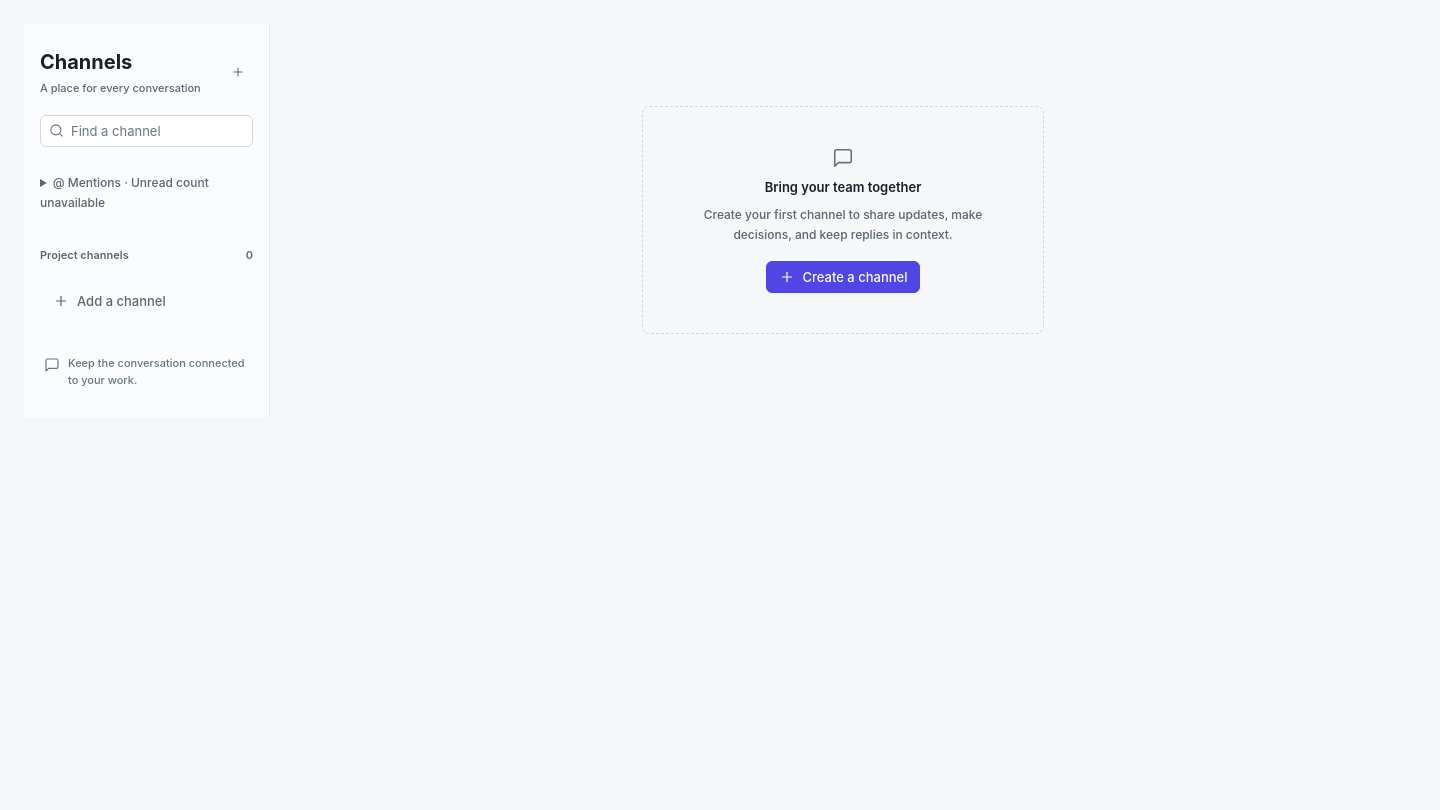
channel collaboration › creates an independent channel and opens its shared conversation
Click the button named "New channel" at (238, 72), box [223,59,253,85]
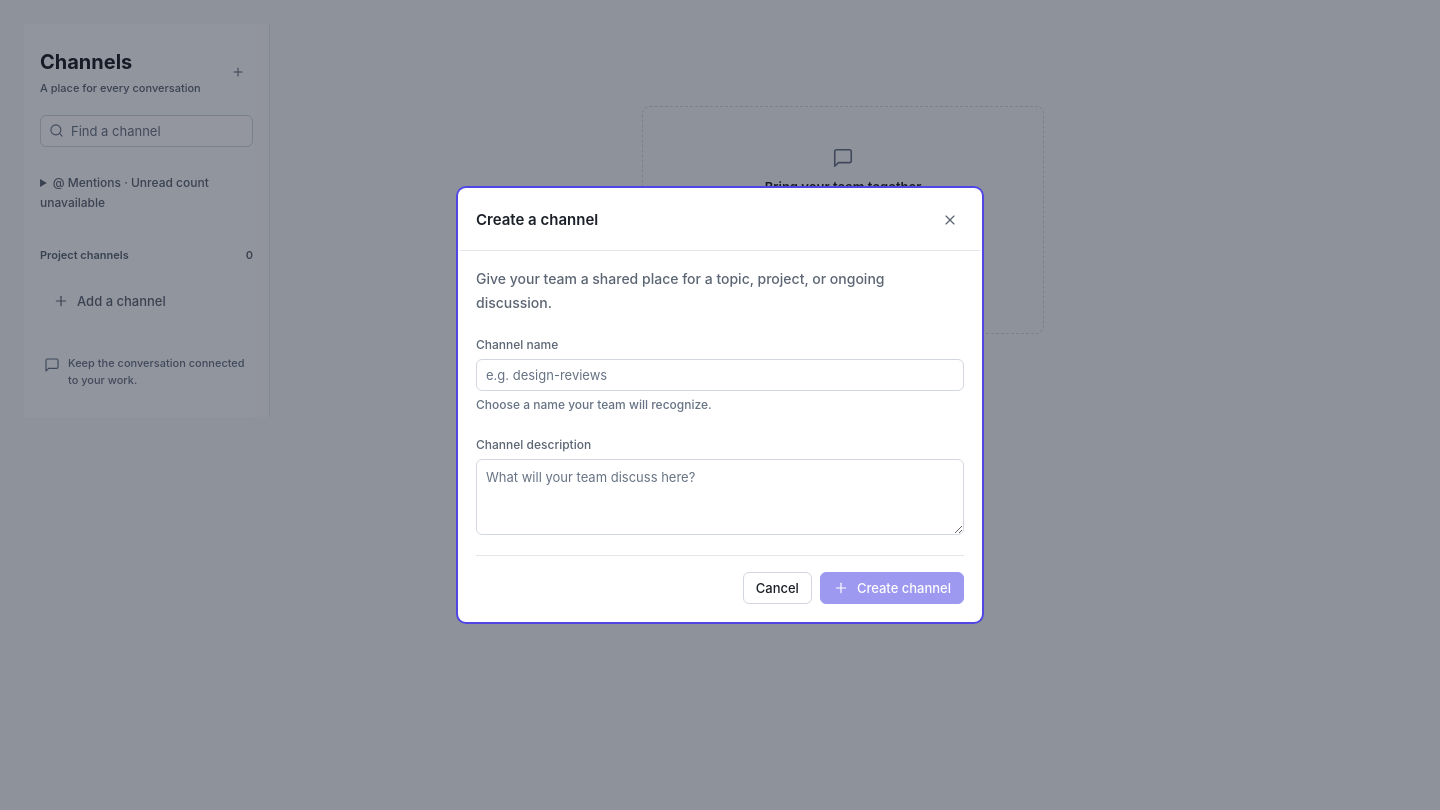
Type "design" into the field labelled "Channel name" at (720, 375), box [476,359,964,391]
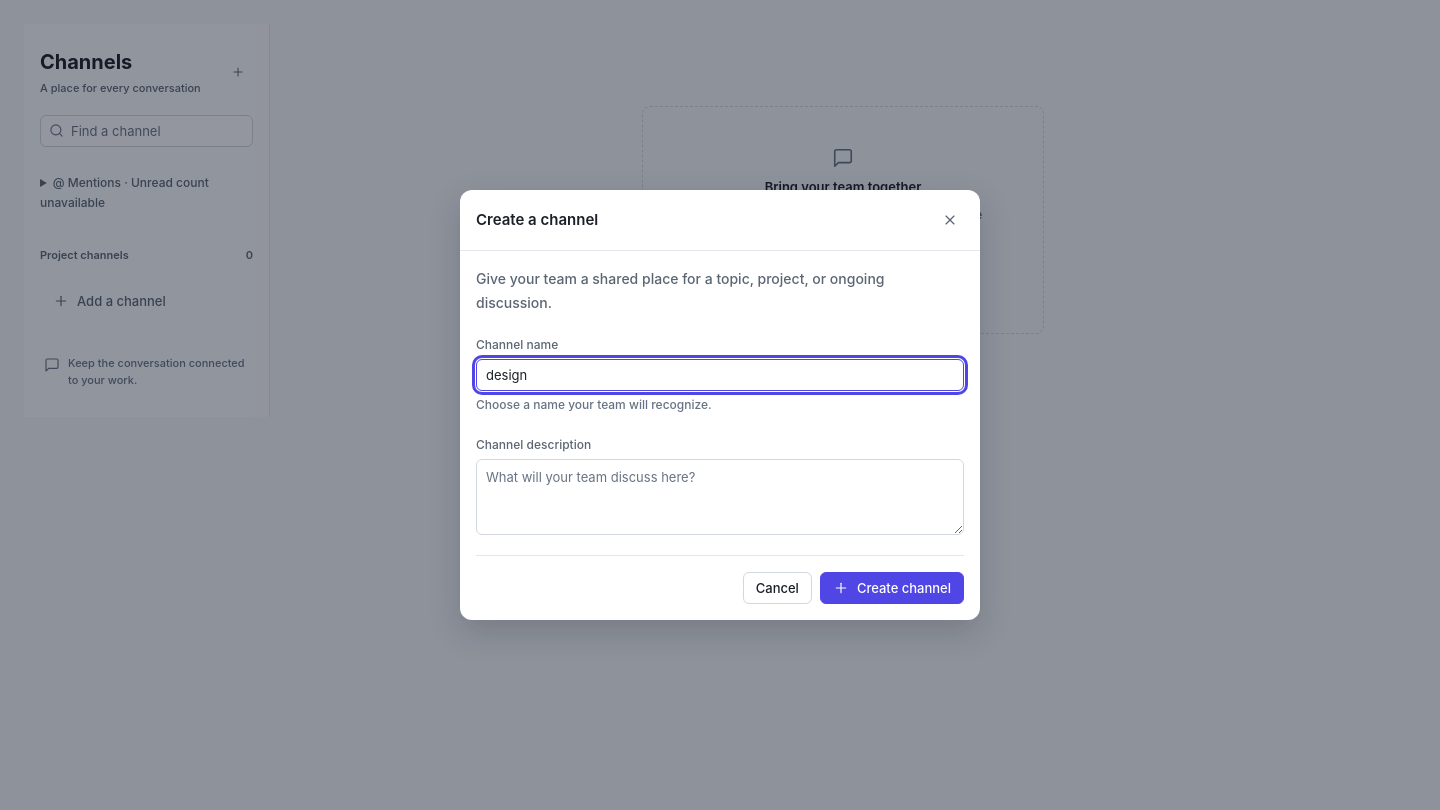
Type "Product ideas" into the text box labelled "Channel description" at (720, 497), box [476,459,964,535]
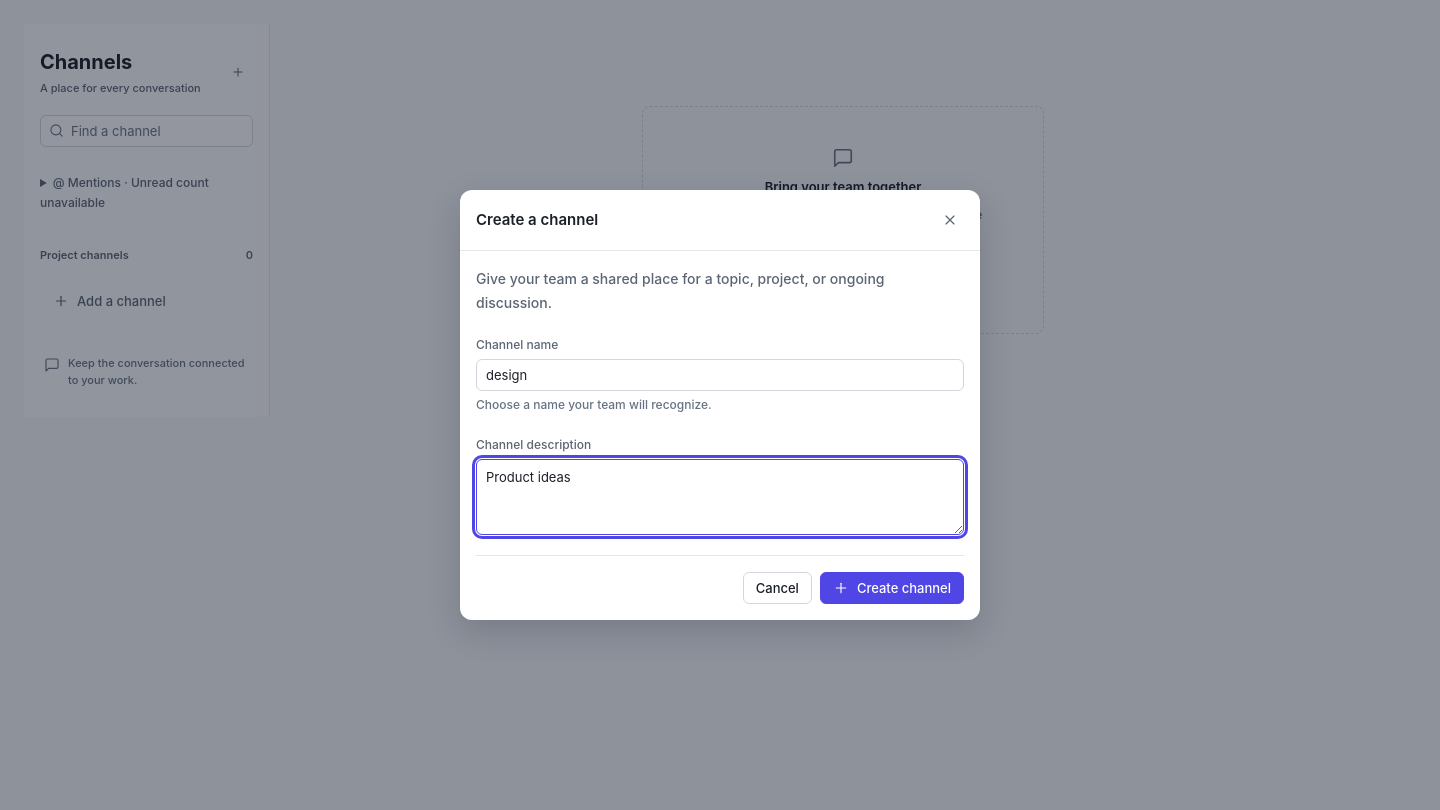
Click the button "Create channel" at (892, 588), box [820,572,964,604]
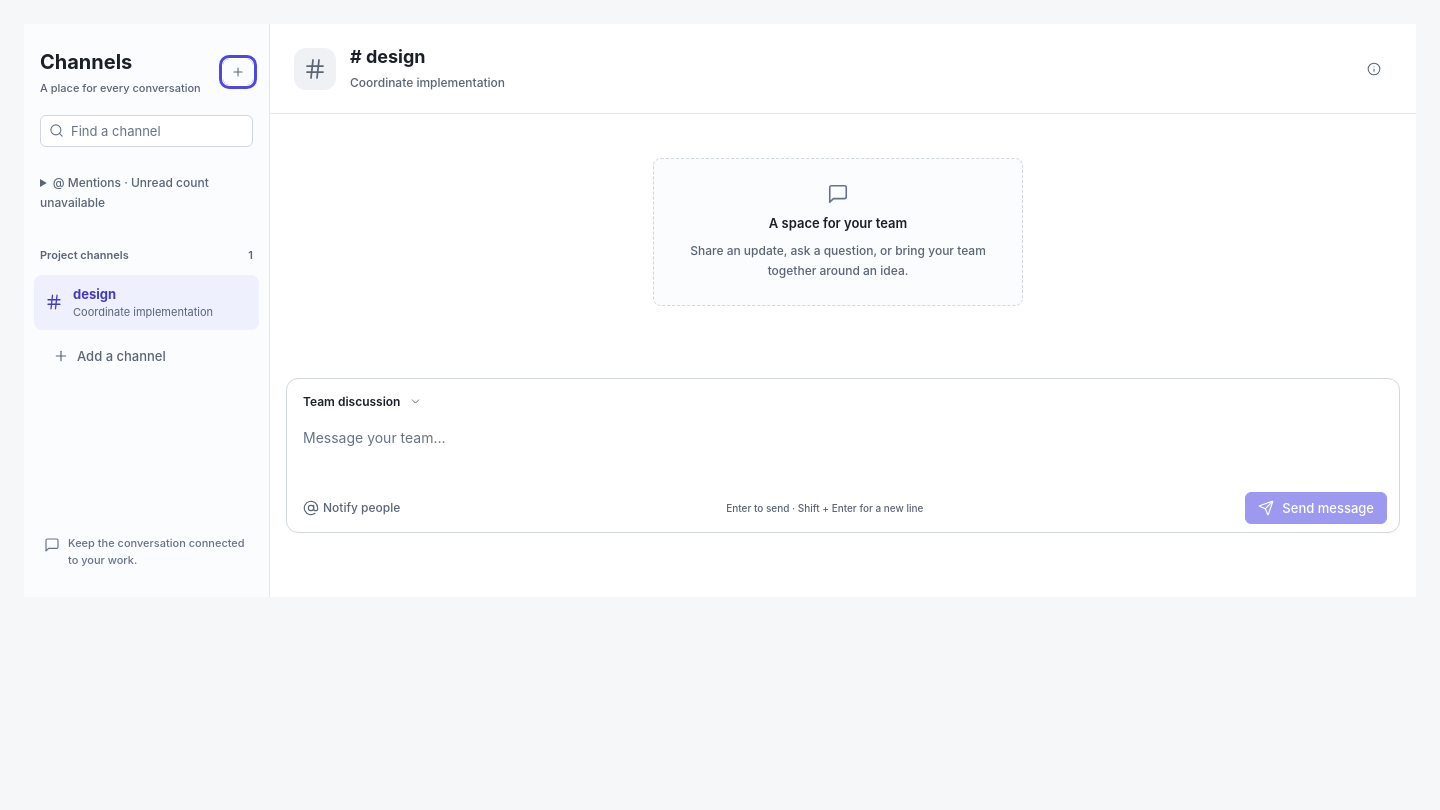
Check: the heading "# design" is shown, box [350,46,426,67]
Check: the text box labelled "Message" is enabled, box [287,415,1399,484]
